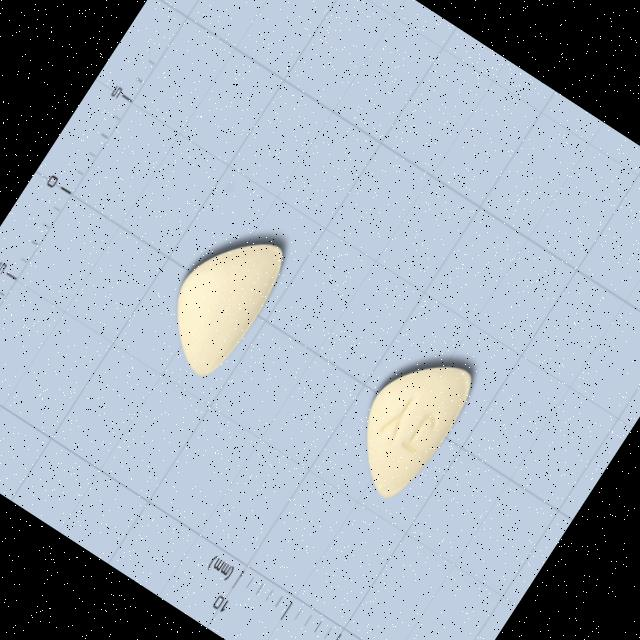Durova: (328, 334, 484, 512), (142, 212, 296, 387)
